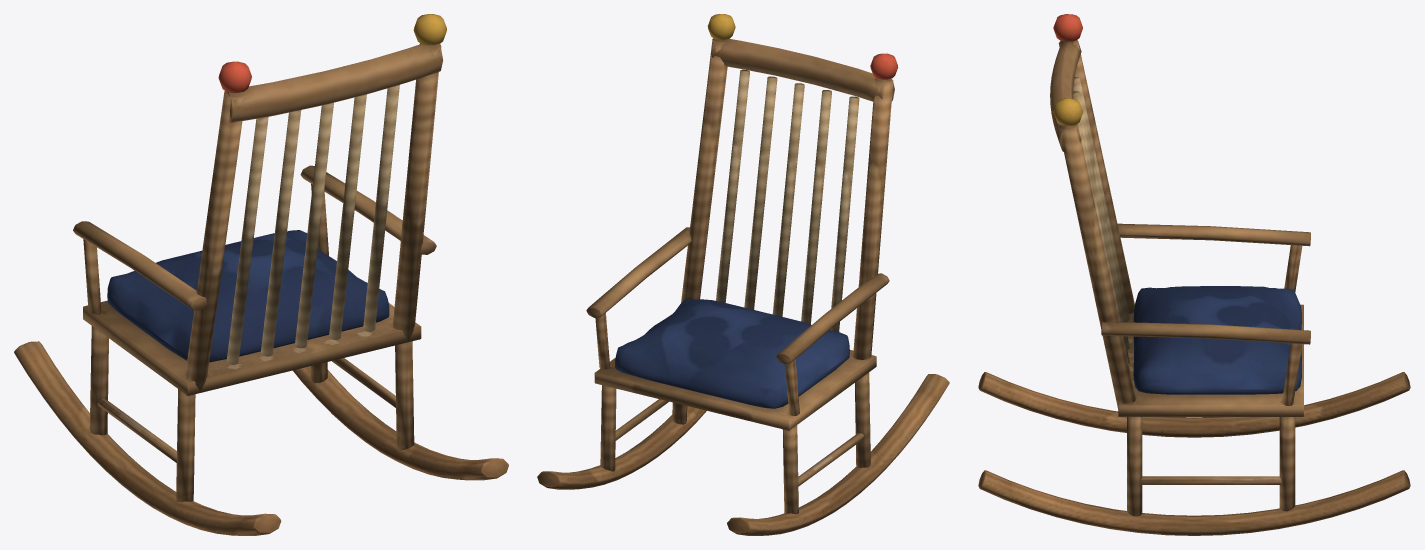
File: rocker_indigo.glb
3 views of the same model, side by side, from view 1: azimuth 30°, elevation 25°; view 2: azimuth 150°, elevation 25°; view 3: azimuth 270°, elevation 25° (orthographic). The views are drawn at different scales.
Parts seen in each view (by area): view 1: prop_rocker_indigo_wood, prop_rocker_indigo_felt; view 2: prop_rocker_indigo_wood, prop_rocker_indigo_felt; view 3: prop_rocker_indigo_wood, prop_rocker_indigo_felt.
Part boxes in pixels (left/top/right/bottom): prop_rocker_indigo_wood: left=14, top=43, right=508, bottom=535; prop_rocker_indigo_felt: left=107, top=14, right=446, bottom=362; prop_rocker_indigo_wood: left=537, top=38, right=949, bottom=535; prop_rocker_indigo_felt: left=615, top=14, right=898, bottom=408; prop_rocker_indigo_wood: left=978, top=40, right=1410, bottom=535; prop_rocker_indigo_felt: left=1053, top=14, right=1301, bottom=394.
Bounding box in the file's own units: 0.7856 × 1.42 × 1.3.
Materials: 2 (2 with a texture image).
